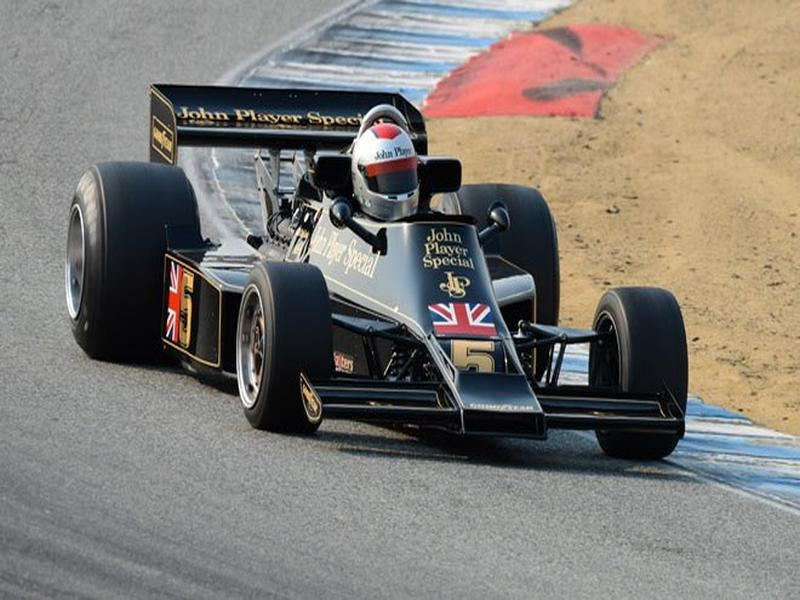f1: (47, 43, 728, 451)
